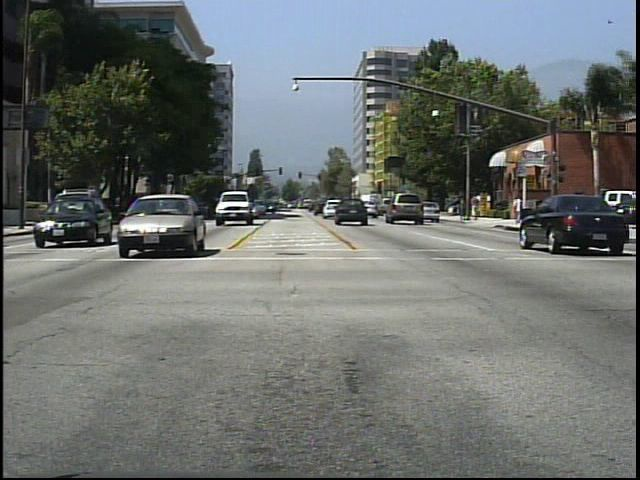person: (510, 192, 523, 225), (471, 190, 482, 223)
